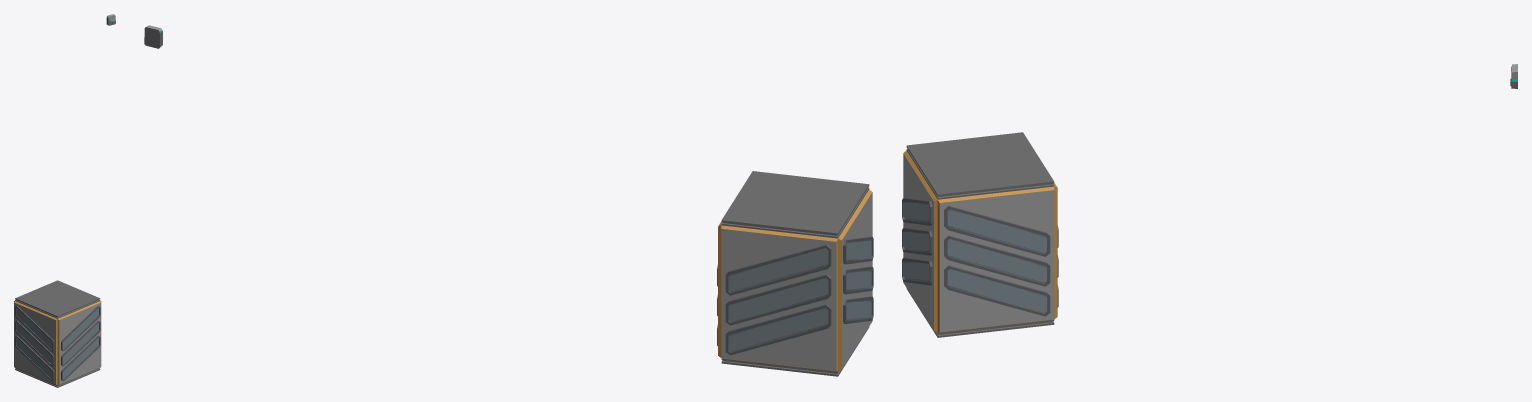
Rendered from SM_Bld_Section_Window_04 (4).fbx.
3 renders of one model, left to right at view 1: azimuth 30°, elevation 25°; view 2: azimuth 150°, elevation 25°; view 3: azimuth 270°, elevation 25°, orthographic. The views are drawn at different scales.
Visible parts, largest first — view 1: SM_Bld_Section_Window_04 (4), SM_Prop_WallAttach_Electronics_04; view 2: SM_Bld_Section_Window_04 (4); view 3: SM_Bld_Section_Window_04 (4).
Part boxes in pixels (x1=…): SM_Bld_Section_Window_04 (4): x1=14, y1=280, x2=101, y2=387; SM_Prop_WallAttach_Electronics_04: x1=106, y1=14, x2=115, y2=25; SM_Bld_Section_Window_04 (4): x1=717, y1=171, x2=873, y2=376; SM_Bld_Section_Window_04 (4): x1=902, y1=132, x2=1058, y2=337.
Size of the model in its own units: 13.92 by 12.48 by 16.49.
